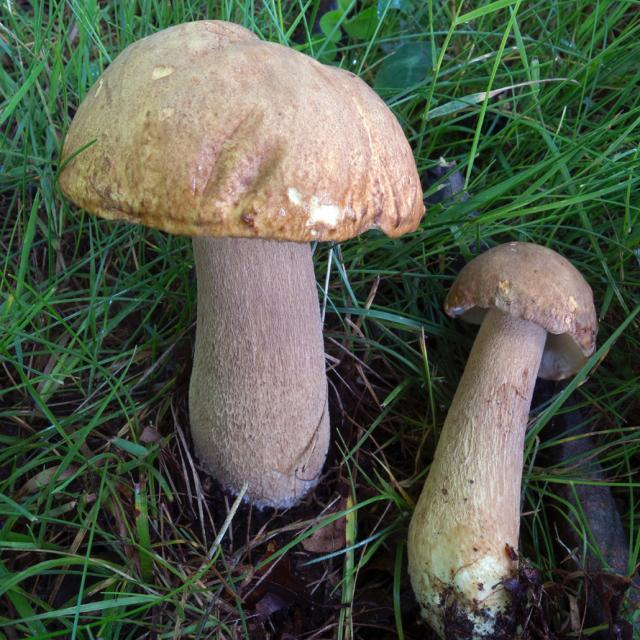Boletus: (59, 19, 423, 505), (410, 243, 600, 635)
